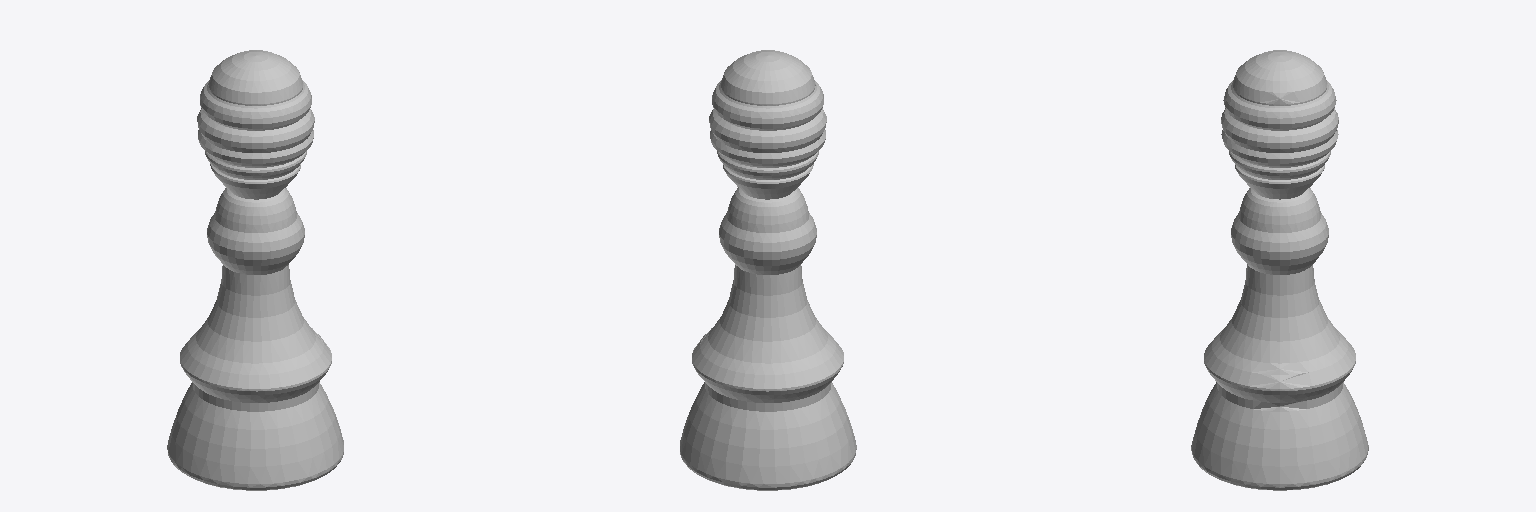
Rendered from whiteBishop.obj.
The picture shows the model from 3 angles: view 1: azimuth 30°, elevation 25°; view 2: azimuth 150°, elevation 25°; view 3: azimuth 270°, elevation 25°; orthographic projection.
Visible parts, largest first — view 1: Obj_000089; view 2: Obj_000089; view 3: Obj_000089.
Part boxes in pixels (x1,y1,x2,y2): Obj_000089: (167,50,343,490); Obj_000089: (680,50,856,490); Obj_000089: (1191,50,1368,490).
Bounding box in the file's own units: 3.15 × 7.87 × 3.15.